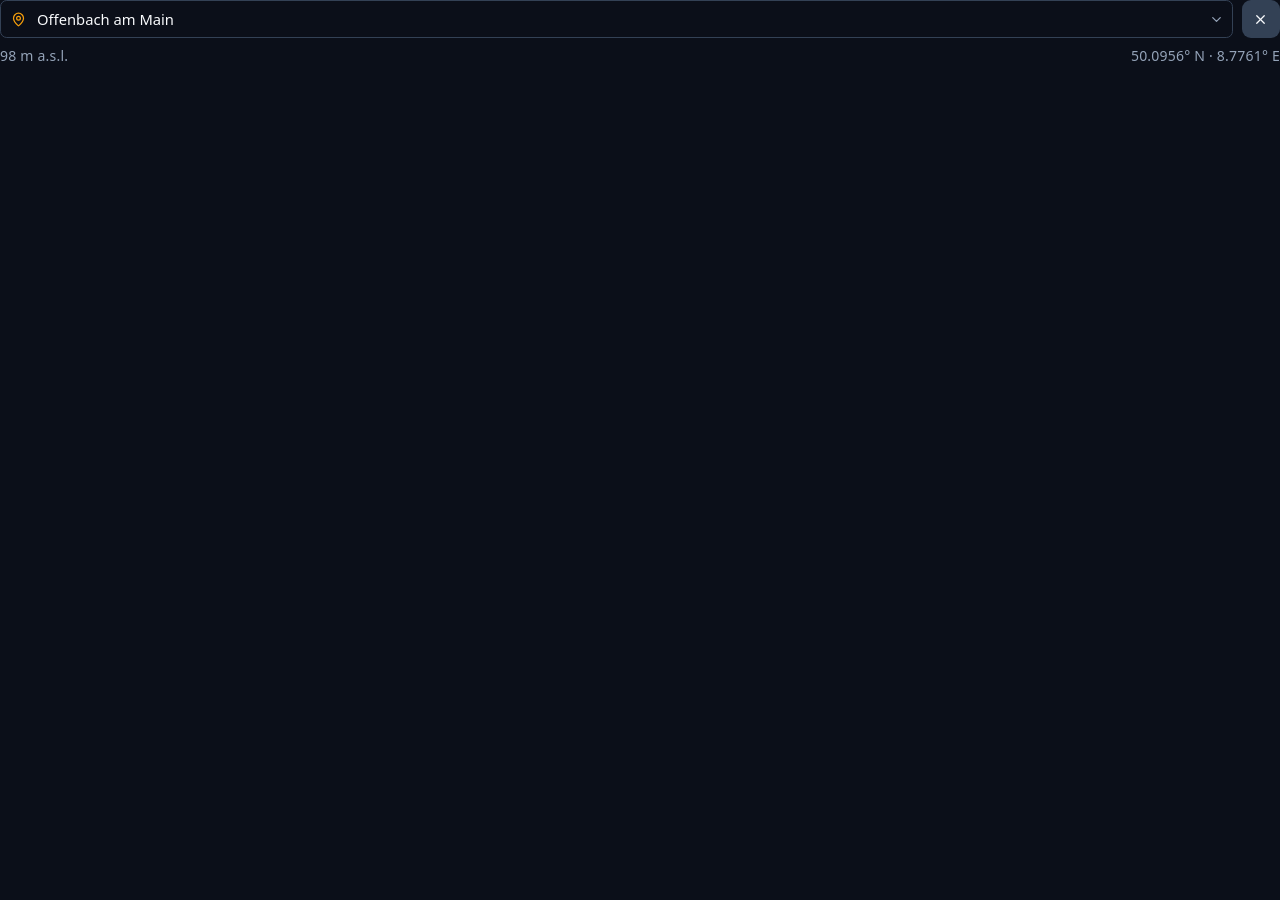
Test case: LocationSelector Component › Full-Screen Map Location Picker Mode › the orange pin opens the picker, also without a preview map
This screenshot has width=1280, height=900.
Click the button named "Choose location on map": (19, 19) [11,12,26,27]
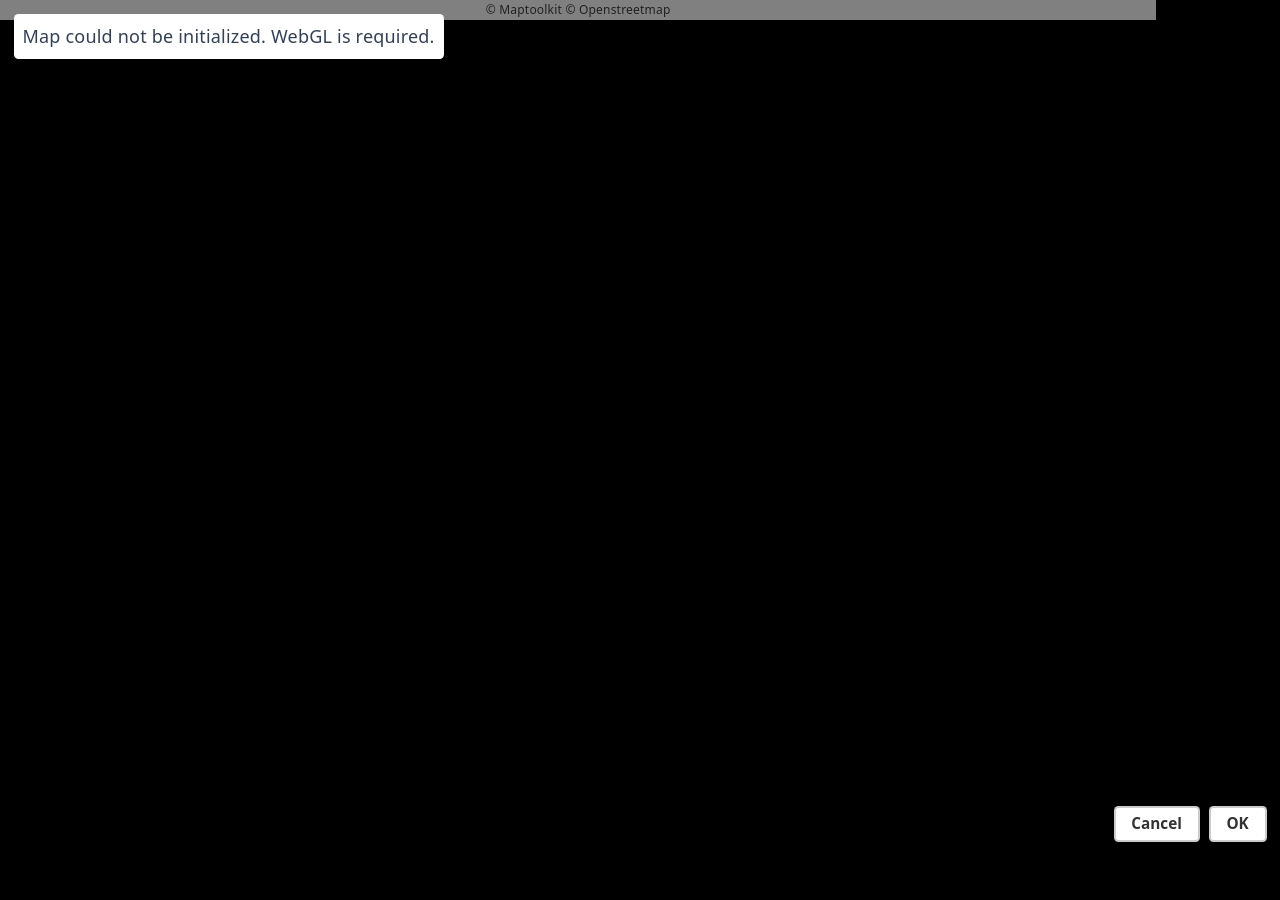
Result: the element with class "fullscreen-map-modal" is shown
Click the button "Cancel": (1157, 824) [1114,806,1200,842]
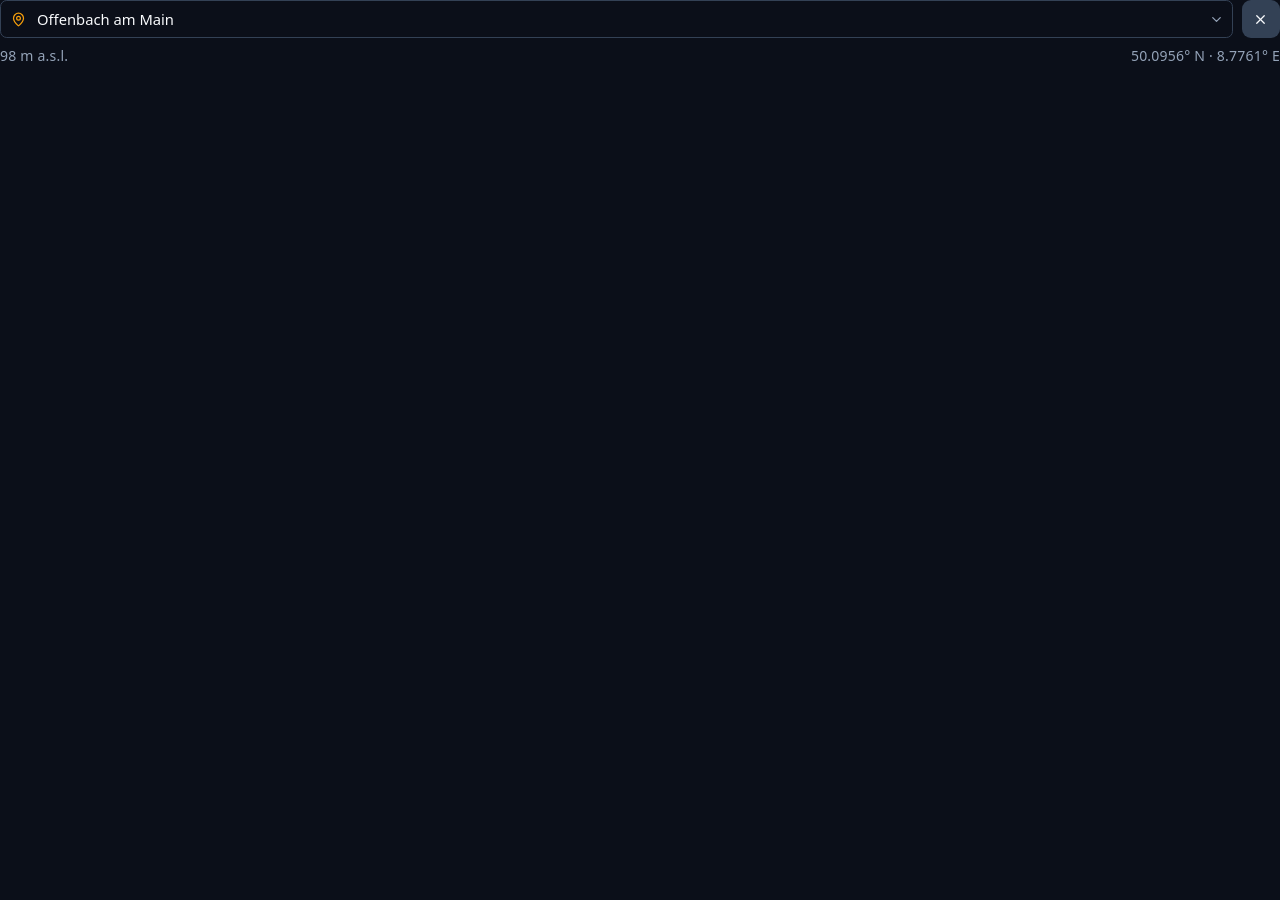
Result: the element with class "fullscreen-map-modal" is gone
